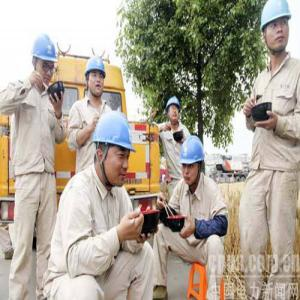blue: (95, 110, 133, 187), (260, 3, 292, 57), (33, 33, 56, 89), (180, 137, 205, 188), (86, 56, 107, 99), (166, 97, 181, 126)
